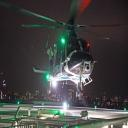helicopter: (16, 1, 120, 91)
